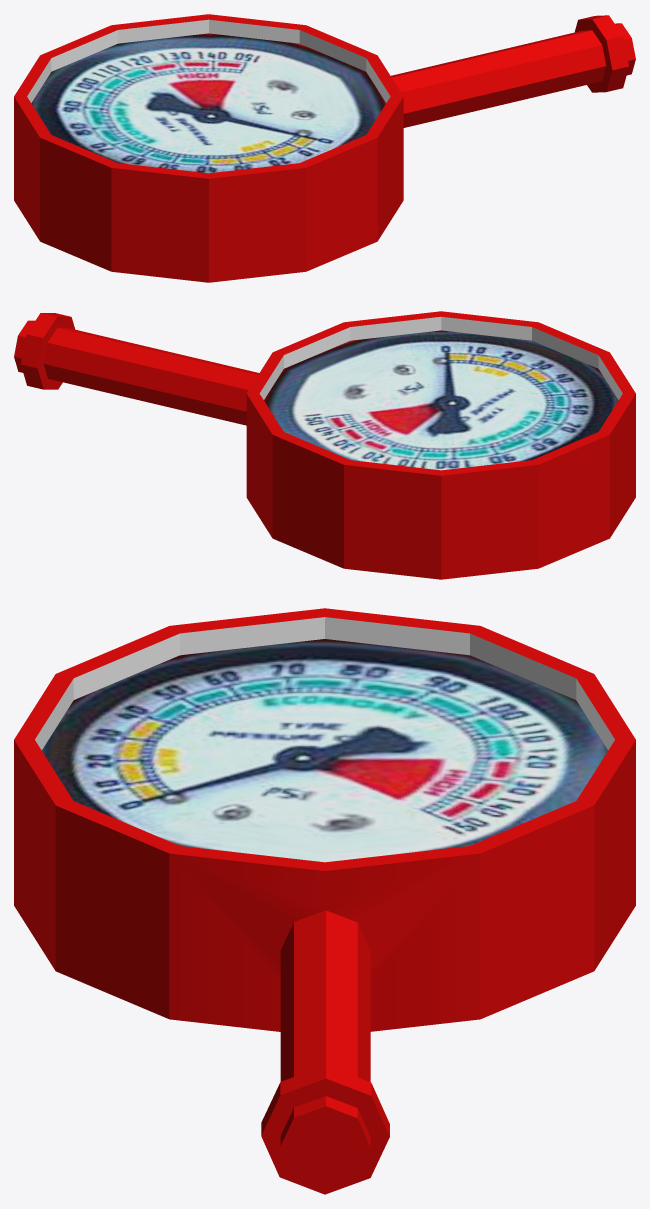
3 renders of one model, top to bottom at view 1: azimuth 30°, elevation 25°; view 2: azimuth 150°, elevation 25°; view 3: azimuth 270°, elevation 25°, orthographic. The views are drawn at different scales.
Parts seen in each view (by area): view 1: pCylinder1; view 2: pCylinder1; view 3: pCylinder1.
Part boxes in pixels (bbox=[...]): pCylinder1: bbox=[14, 14, 635, 282]; pCylinder1: bbox=[14, 311, 635, 579]; pCylinder1: bbox=[14, 608, 635, 1194].
Bounding box in the file's own units: 28.47 × 4.86 × 16.51.
2 materials, 1 textured.
